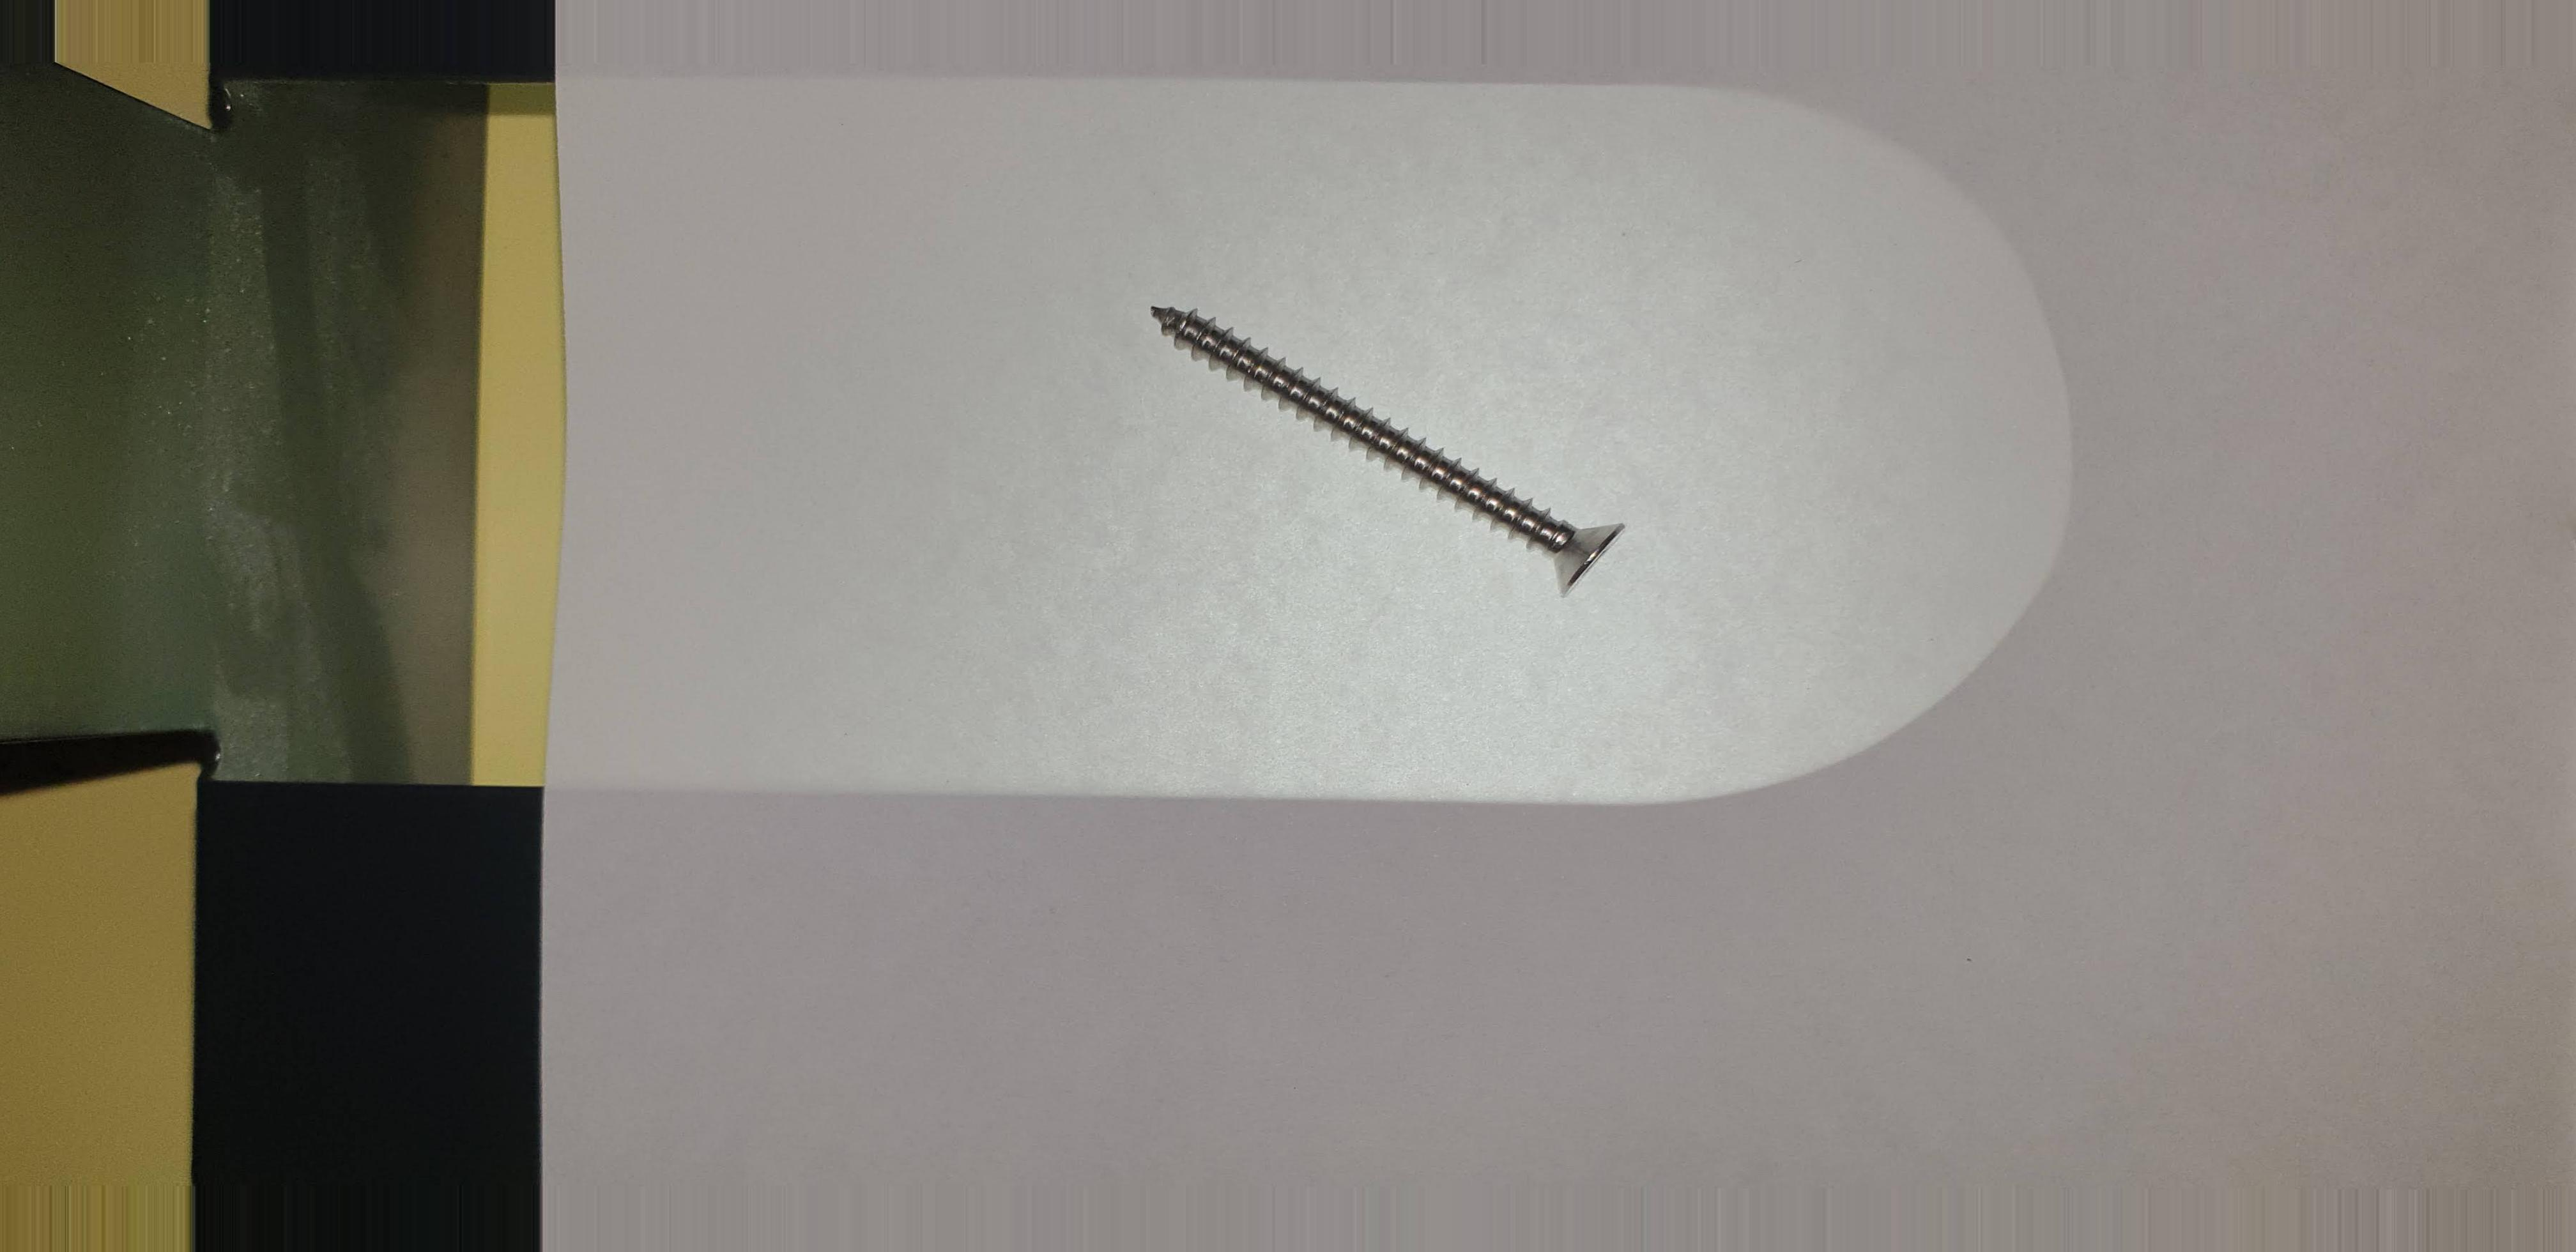fastener: (1096, 268, 1667, 631)
